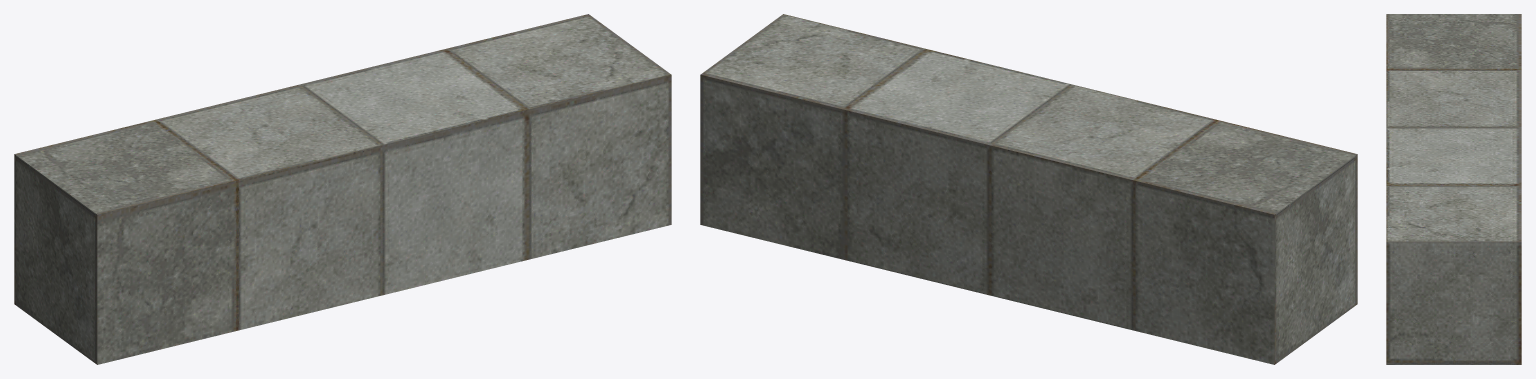
Rendered from floor_block_trim_1x2.fbx.
The picture shows the model from 3 angles, left to right: view 1: azimuth 30°, elevation 25°; view 2: azimuth 150°, elevation 25°; view 3: azimuth 270°, elevation 25°; orthographic projection. The views are drawn at different scales.
Parts seen in each view (by area): view 1: floor_block_trim_1x2; view 2: floor_block_trim_1x2; view 3: floor_block_trim_1x2.
Part boxes in pixels (x1=…): floor_block_trim_1x2: x1=14, y1=14, x2=671, y2=364; floor_block_trim_1x2: x1=700, y1=14, x2=1357, y2=364; floor_block_trim_1x2: x1=1386, y1=14, x2=1521, y2=364.
Size of the model in its own units: 200 by 50 by 50.
